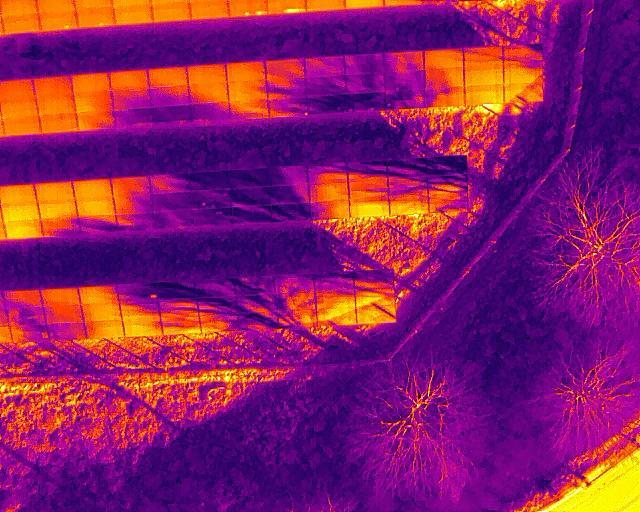Cell: (38, 11, 76, 30), (76, 8, 113, 27)
Cell-Multi: (228, 0, 266, 16)
No-Anomaly: (186, 64, 227, 85), (147, 67, 189, 87), (1, 115, 40, 136), (72, 72, 111, 93), (34, 76, 73, 97), (0, 78, 34, 101), (424, 49, 463, 69), (73, 178, 112, 198), (463, 67, 503, 86), (35, 181, 73, 201), (4, 220, 42, 240), (36, 96, 75, 115), (110, 71, 149, 90), (39, 114, 78, 133), (2, 202, 39, 222), (41, 288, 79, 307), (82, 303, 120, 322), (85, 320, 123, 339), (1, 14, 38, 33), (77, 198, 114, 217), (464, 86, 503, 104), (113, 6, 152, 24), (0, 184, 35, 204), (350, 199, 390, 216), (39, 200, 76, 218), (0, 100, 38, 117), (152, 4, 190, 21), (190, 2, 228, 19)
Shadowing: (228, 99, 270, 123), (275, 307, 318, 330), (274, 290, 317, 313), (150, 172, 192, 195), (354, 303, 396, 326), (272, 272, 314, 295), (197, 294, 239, 316), (152, 105, 192, 128), (236, 294, 279, 315), (387, 159, 428, 181), (152, 191, 193, 213), (267, 97, 308, 119), (304, 56, 345, 78), (111, 88, 152, 110), (225, 60, 266, 82), (314, 274, 355, 296), (230, 168, 272, 189), (354, 287, 396, 308), (231, 186, 272, 207), (191, 188, 232, 209), (383, 51, 424, 72), (191, 171, 232, 192), (198, 312, 239, 333), (192, 207, 233, 228), (271, 184, 310, 206), (388, 177, 428, 198), (384, 71, 426, 91), (74, 91, 114, 112), (427, 175, 467, 196), (344, 54, 384, 75), (265, 58, 305, 79), (266, 78, 306, 99), (315, 307, 357, 327), (232, 204, 272, 225), (354, 272, 394, 293), (153, 209, 193, 230), (77, 111, 115, 133), (313, 291, 357, 310), (307, 164, 348, 184), (308, 183, 349, 203), (191, 103, 230, 124), (44, 304, 83, 325), (347, 163, 387, 183), (463, 48, 503, 68), (271, 204, 311, 224), (78, 285, 118, 305), (148, 87, 190, 106), (114, 108, 153, 128), (188, 85, 229, 104), (343, 72, 384, 91), (227, 81, 268, 100), (238, 312, 279, 331), (345, 93, 385, 112), (308, 96, 346, 116), (306, 77, 346, 96), (270, 166, 308, 186), (161, 316, 201, 335), (42, 217, 80, 237), (10, 323, 48, 343), (116, 213, 154, 233), (504, 83, 543, 102), (425, 87, 464, 106), (504, 48, 543, 67), (310, 200, 349, 219), (428, 156, 465, 176), (348, 182, 389, 200), (4, 289, 42, 308), (47, 322, 85, 341), (111, 178, 151, 196), (386, 90, 426, 108), (120, 302, 160, 320), (80, 215, 116, 235), (159, 300, 199, 318), (425, 69, 464, 87), (114, 196, 153, 214), (6, 307, 44, 325), (389, 196, 429, 213), (429, 195, 468, 212), (504, 66, 543, 83), (122, 318, 161, 335)
